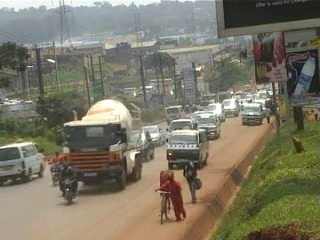Car: (130, 127, 156, 162), (141, 122, 164, 147), (204, 101, 226, 127), (220, 96, 240, 119)
Motorcycle: (58, 162, 82, 204), (47, 152, 65, 187)
